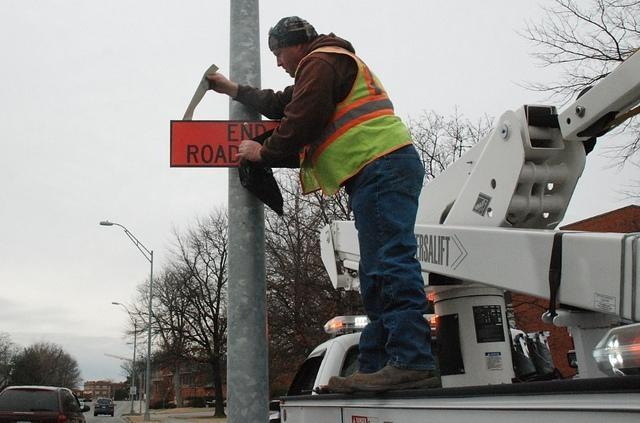car: (288, 333, 362, 398), (0, 386, 91, 423), (94, 397, 115, 417)
truck: (287, 284, 519, 396)
